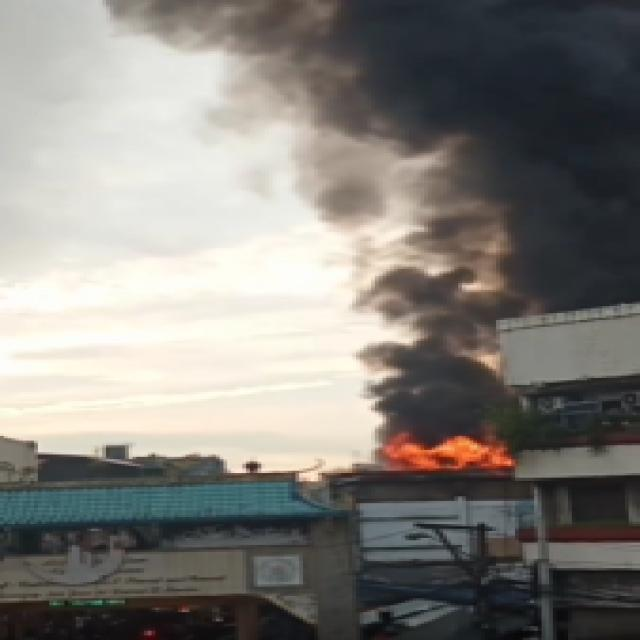Fire: (356, 428, 522, 478)
Smoke: (134, 0, 640, 316), (361, 312, 533, 448)
